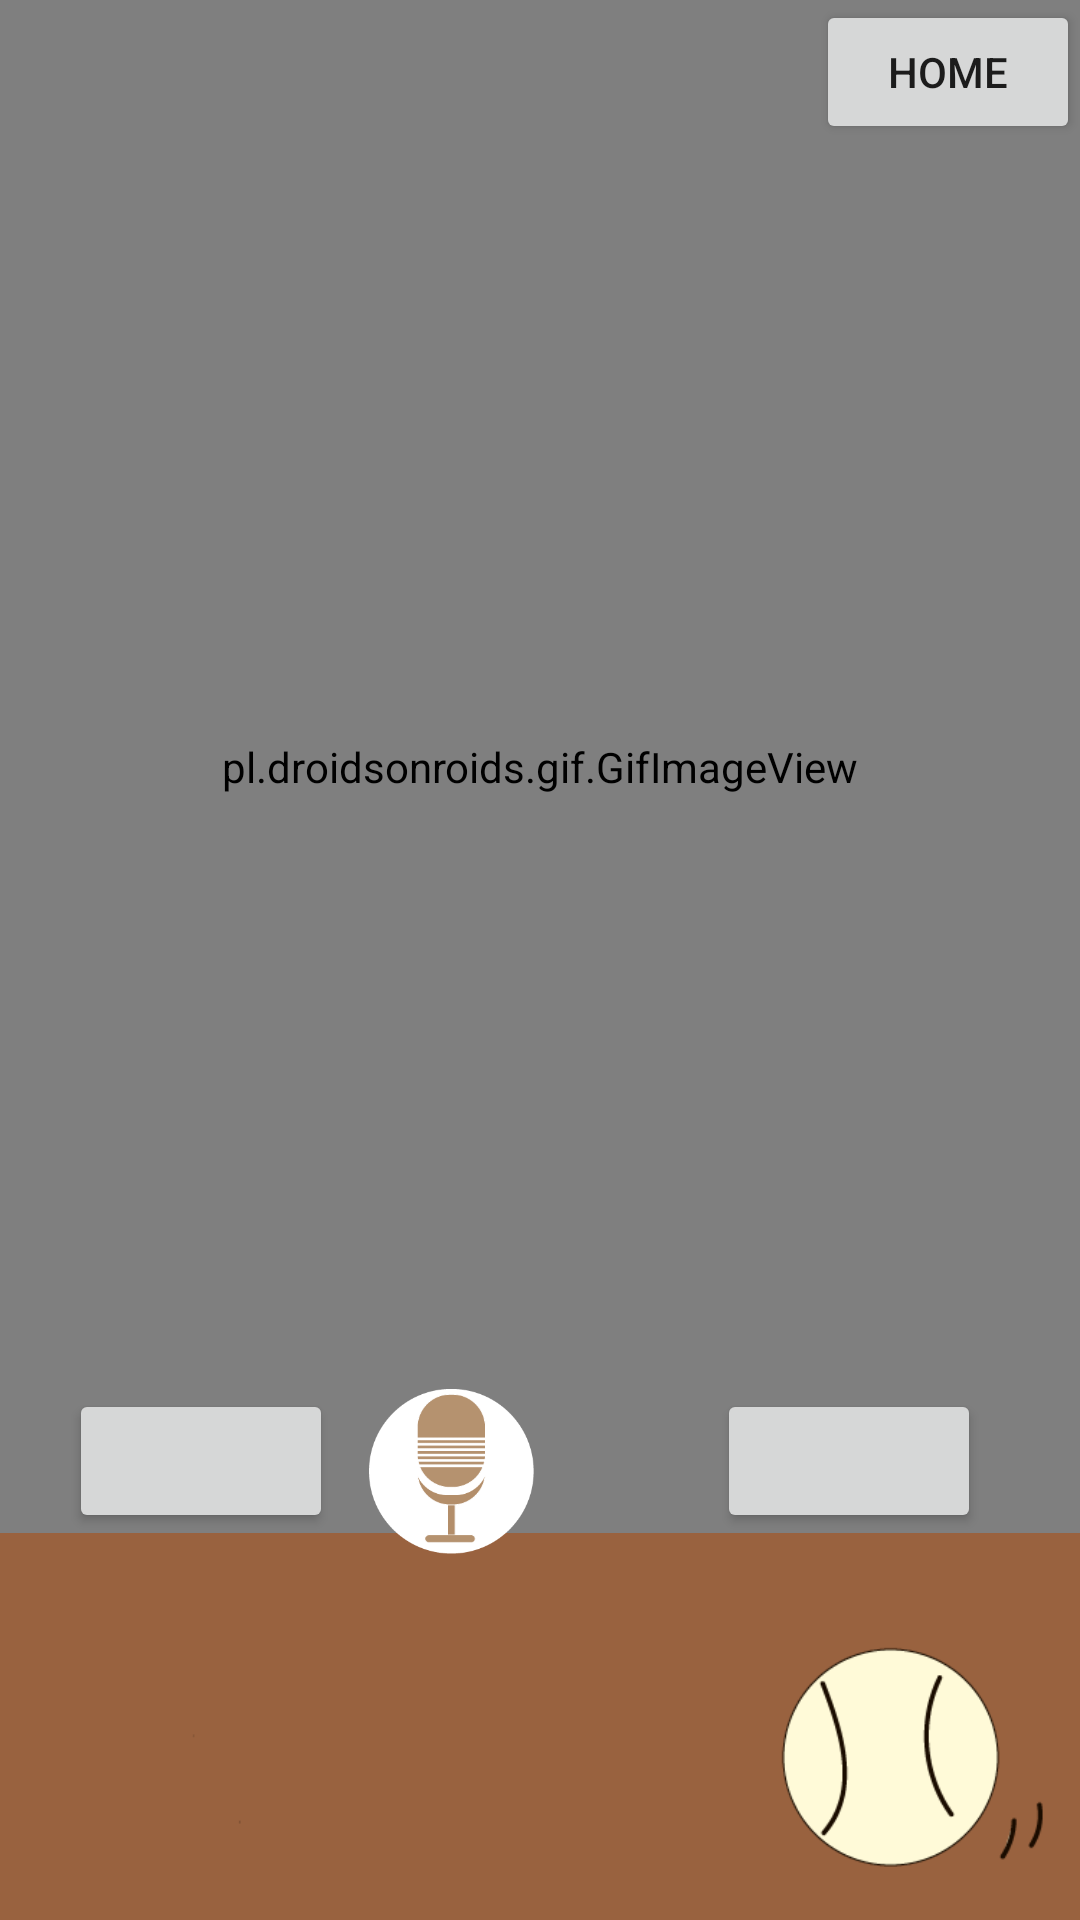

Icons on this 1080 x 1920 Android screen, each with its box as (x1, y1, x2, y2):
mic: (369, 1389, 534, 1554)
